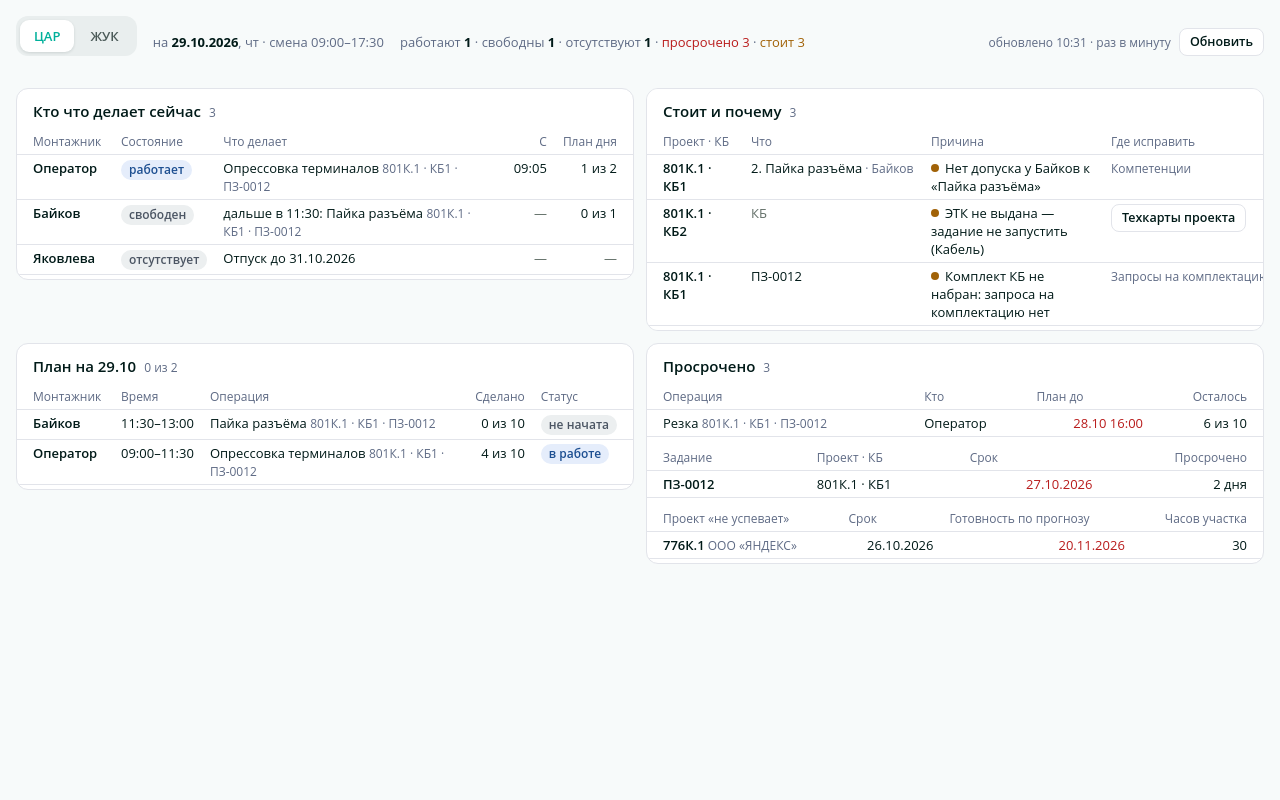
Test: lets full access switch to ЖУК: its people and plan like ЦАР plus the tasks handed whole
The width and height of the screenshot is (1280, 800).
Click the radio button labelled "ЖУК" at [105, 36], box [76,20,133,52]
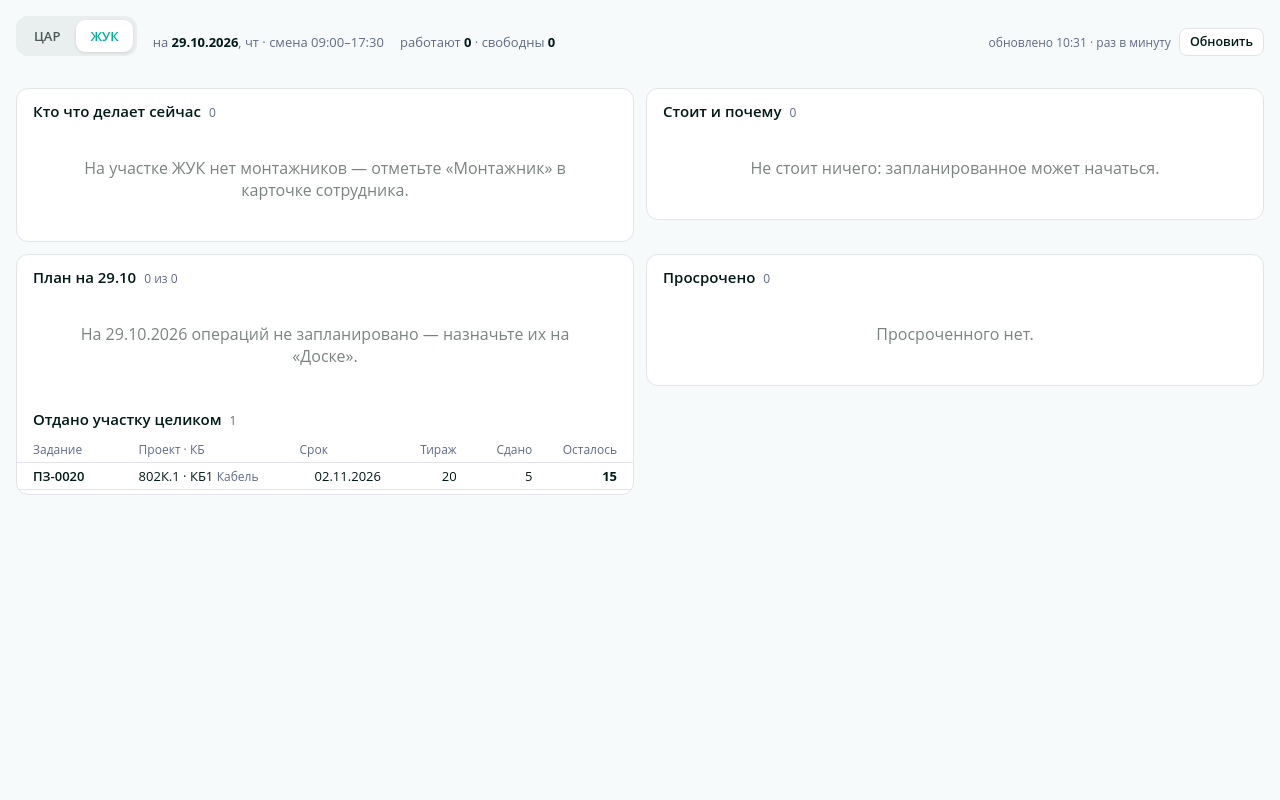
expect the column heading "ПЗ-0020" is shown: met, box [17,462,131,490]
expect the table named "Отдано участку целиком" shows "15": met, box [602,467,617,485]
expect the text "На участке ЖУК нет монтажников — отметьте «Монтажник» в карточке сотрудника." is shown: met, box [84,157,566,201]
